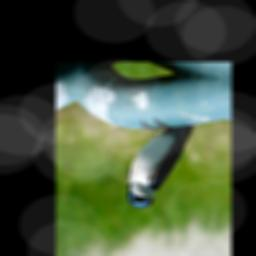Swallow: (121, 114, 195, 215)
